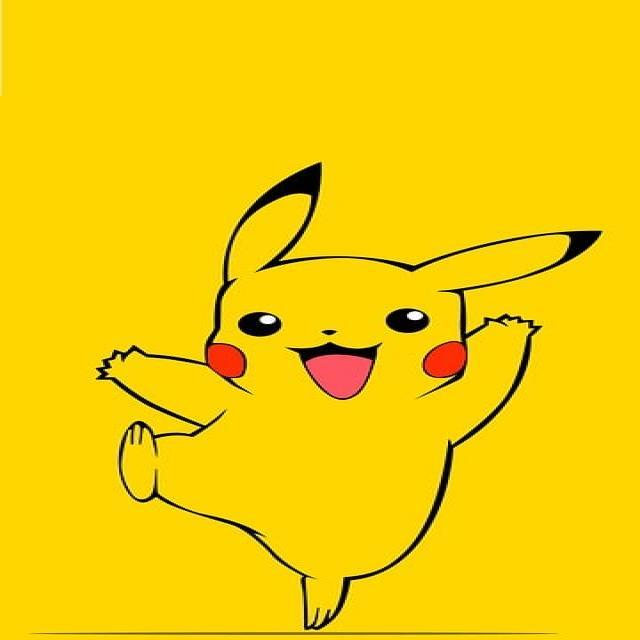Pikachu: (53, 132, 629, 640)
